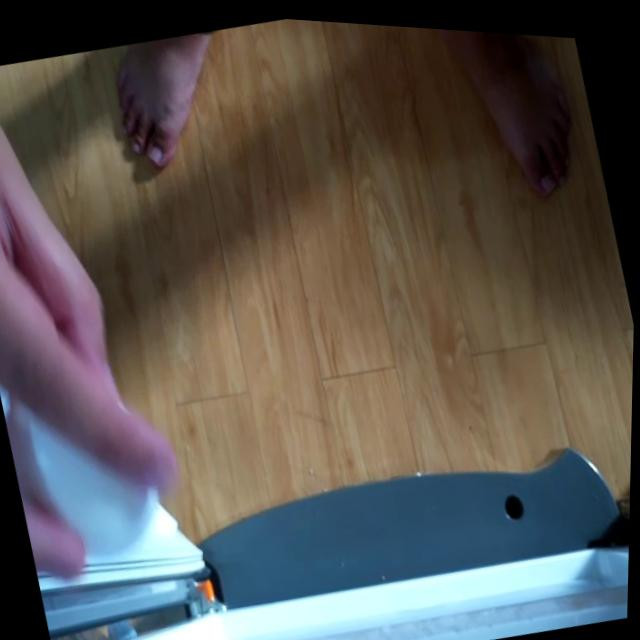egg: (0, 367, 166, 587)
